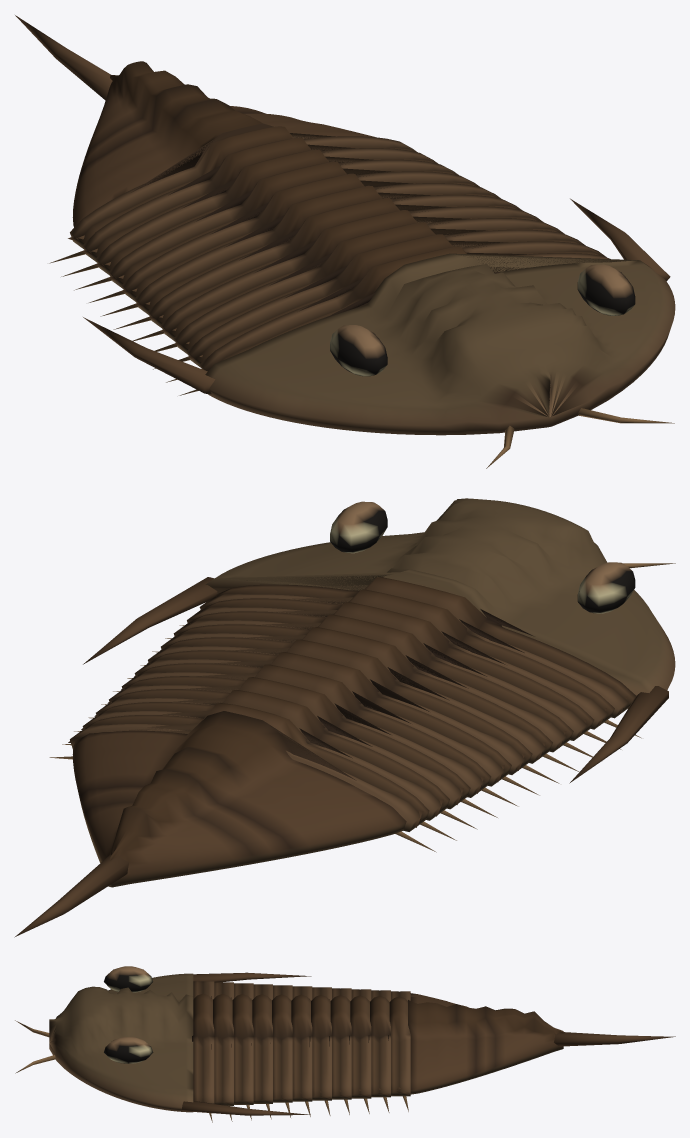
File: DalmanitesLimulurus.fbx
3 views of the same model, one above another, from view 1: azimuth 30°, elevation 25°; view 2: azimuth 150°, elevation 25°; view 3: azimuth 270°, elevation 25° (orthographic). The views are drawn at different scales.
Parts seen in each view (by area): view 1: DalmanitesLimulurus; view 2: DalmanitesLimulurus; view 3: DalmanitesLimulurus.
Boxes of the visible parts, box(x1,y1,x2,y2) form: DalmanitesLimulurus: box(15, 15, 675, 468); DalmanitesLimulurus: box(14, 498, 675, 937); DalmanitesLimulurus: box(15, 966, 675, 1122).
Bounding box in the file's own units: 1.04 × 0.2 × 2.06.
